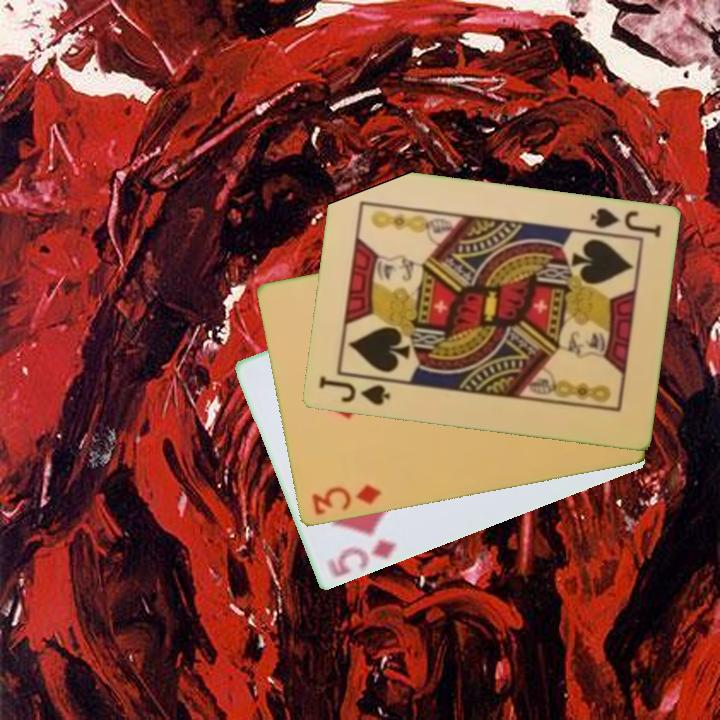3d: (308, 481, 384, 519)
5d: (323, 536, 400, 581)
Js: (586, 204, 664, 241), (315, 373, 393, 409)
